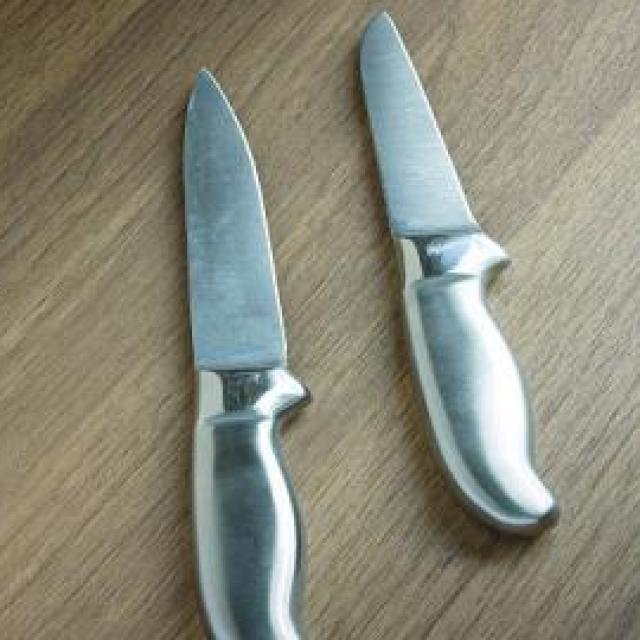knife: (344, 14, 562, 544), (175, 61, 319, 640)
